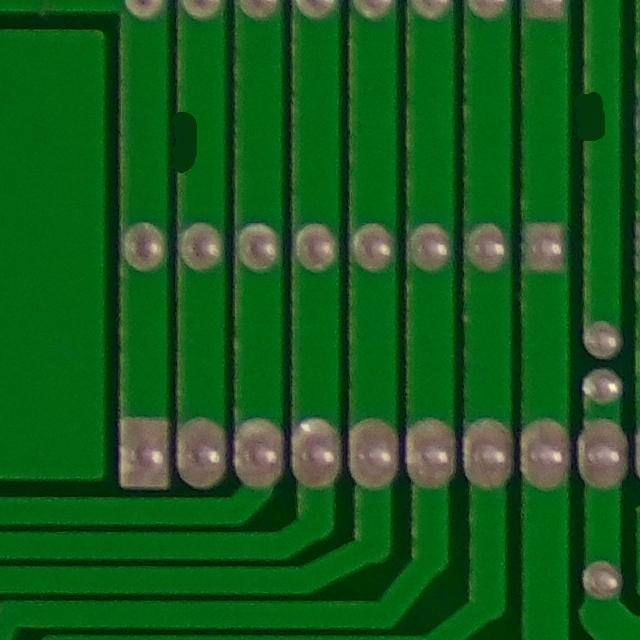mouse_bite: (161, 102, 222, 184), (566, 81, 630, 148)
